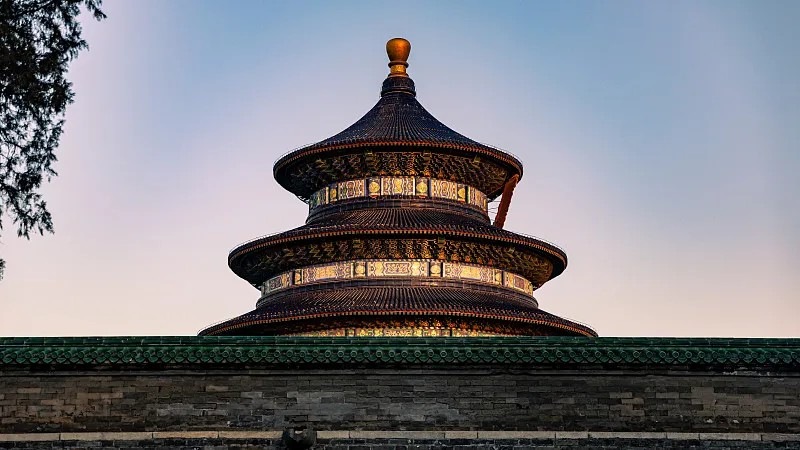Heaven: (195, 36, 600, 340)
